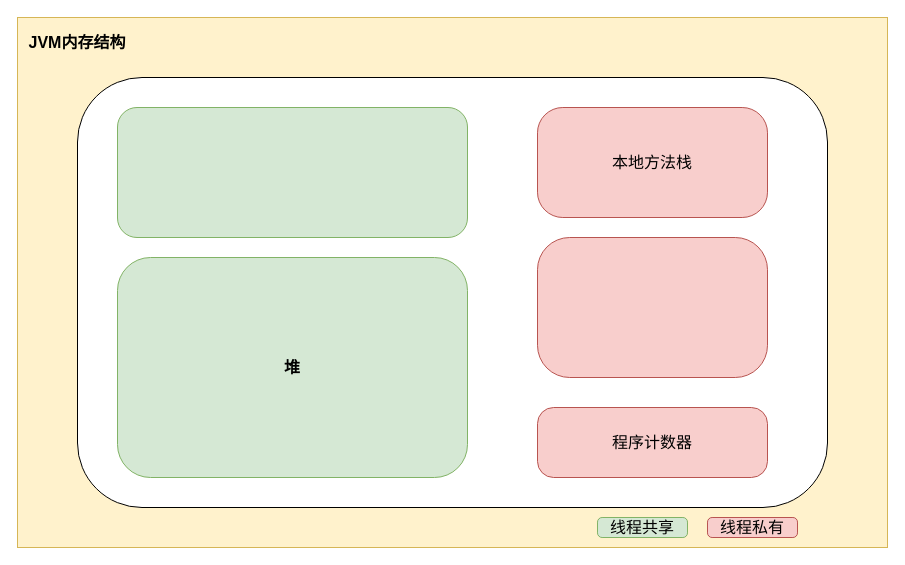
The diagram is 905 pixels wide and 565 high, and some of its shapes have lost their labels. The centre of each missing label's shape, as x and y in pixels:
方法区: pixel 292 172
虚拟机栈: pixel 652 307
